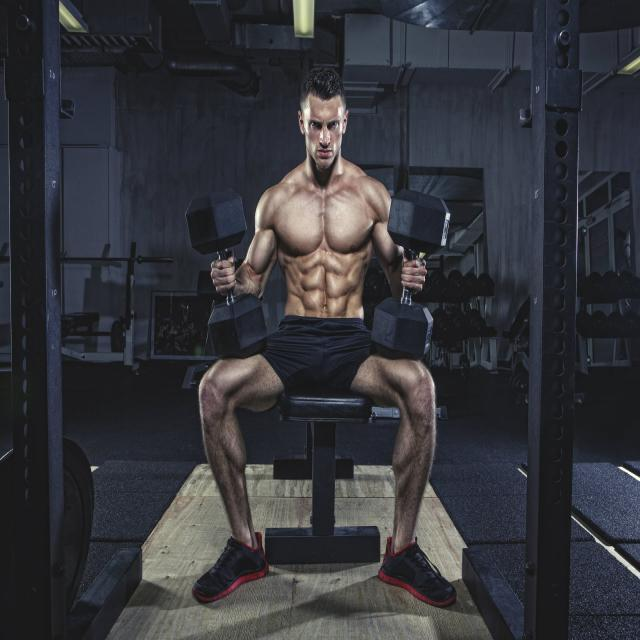adult: (188, 67, 456, 606)
